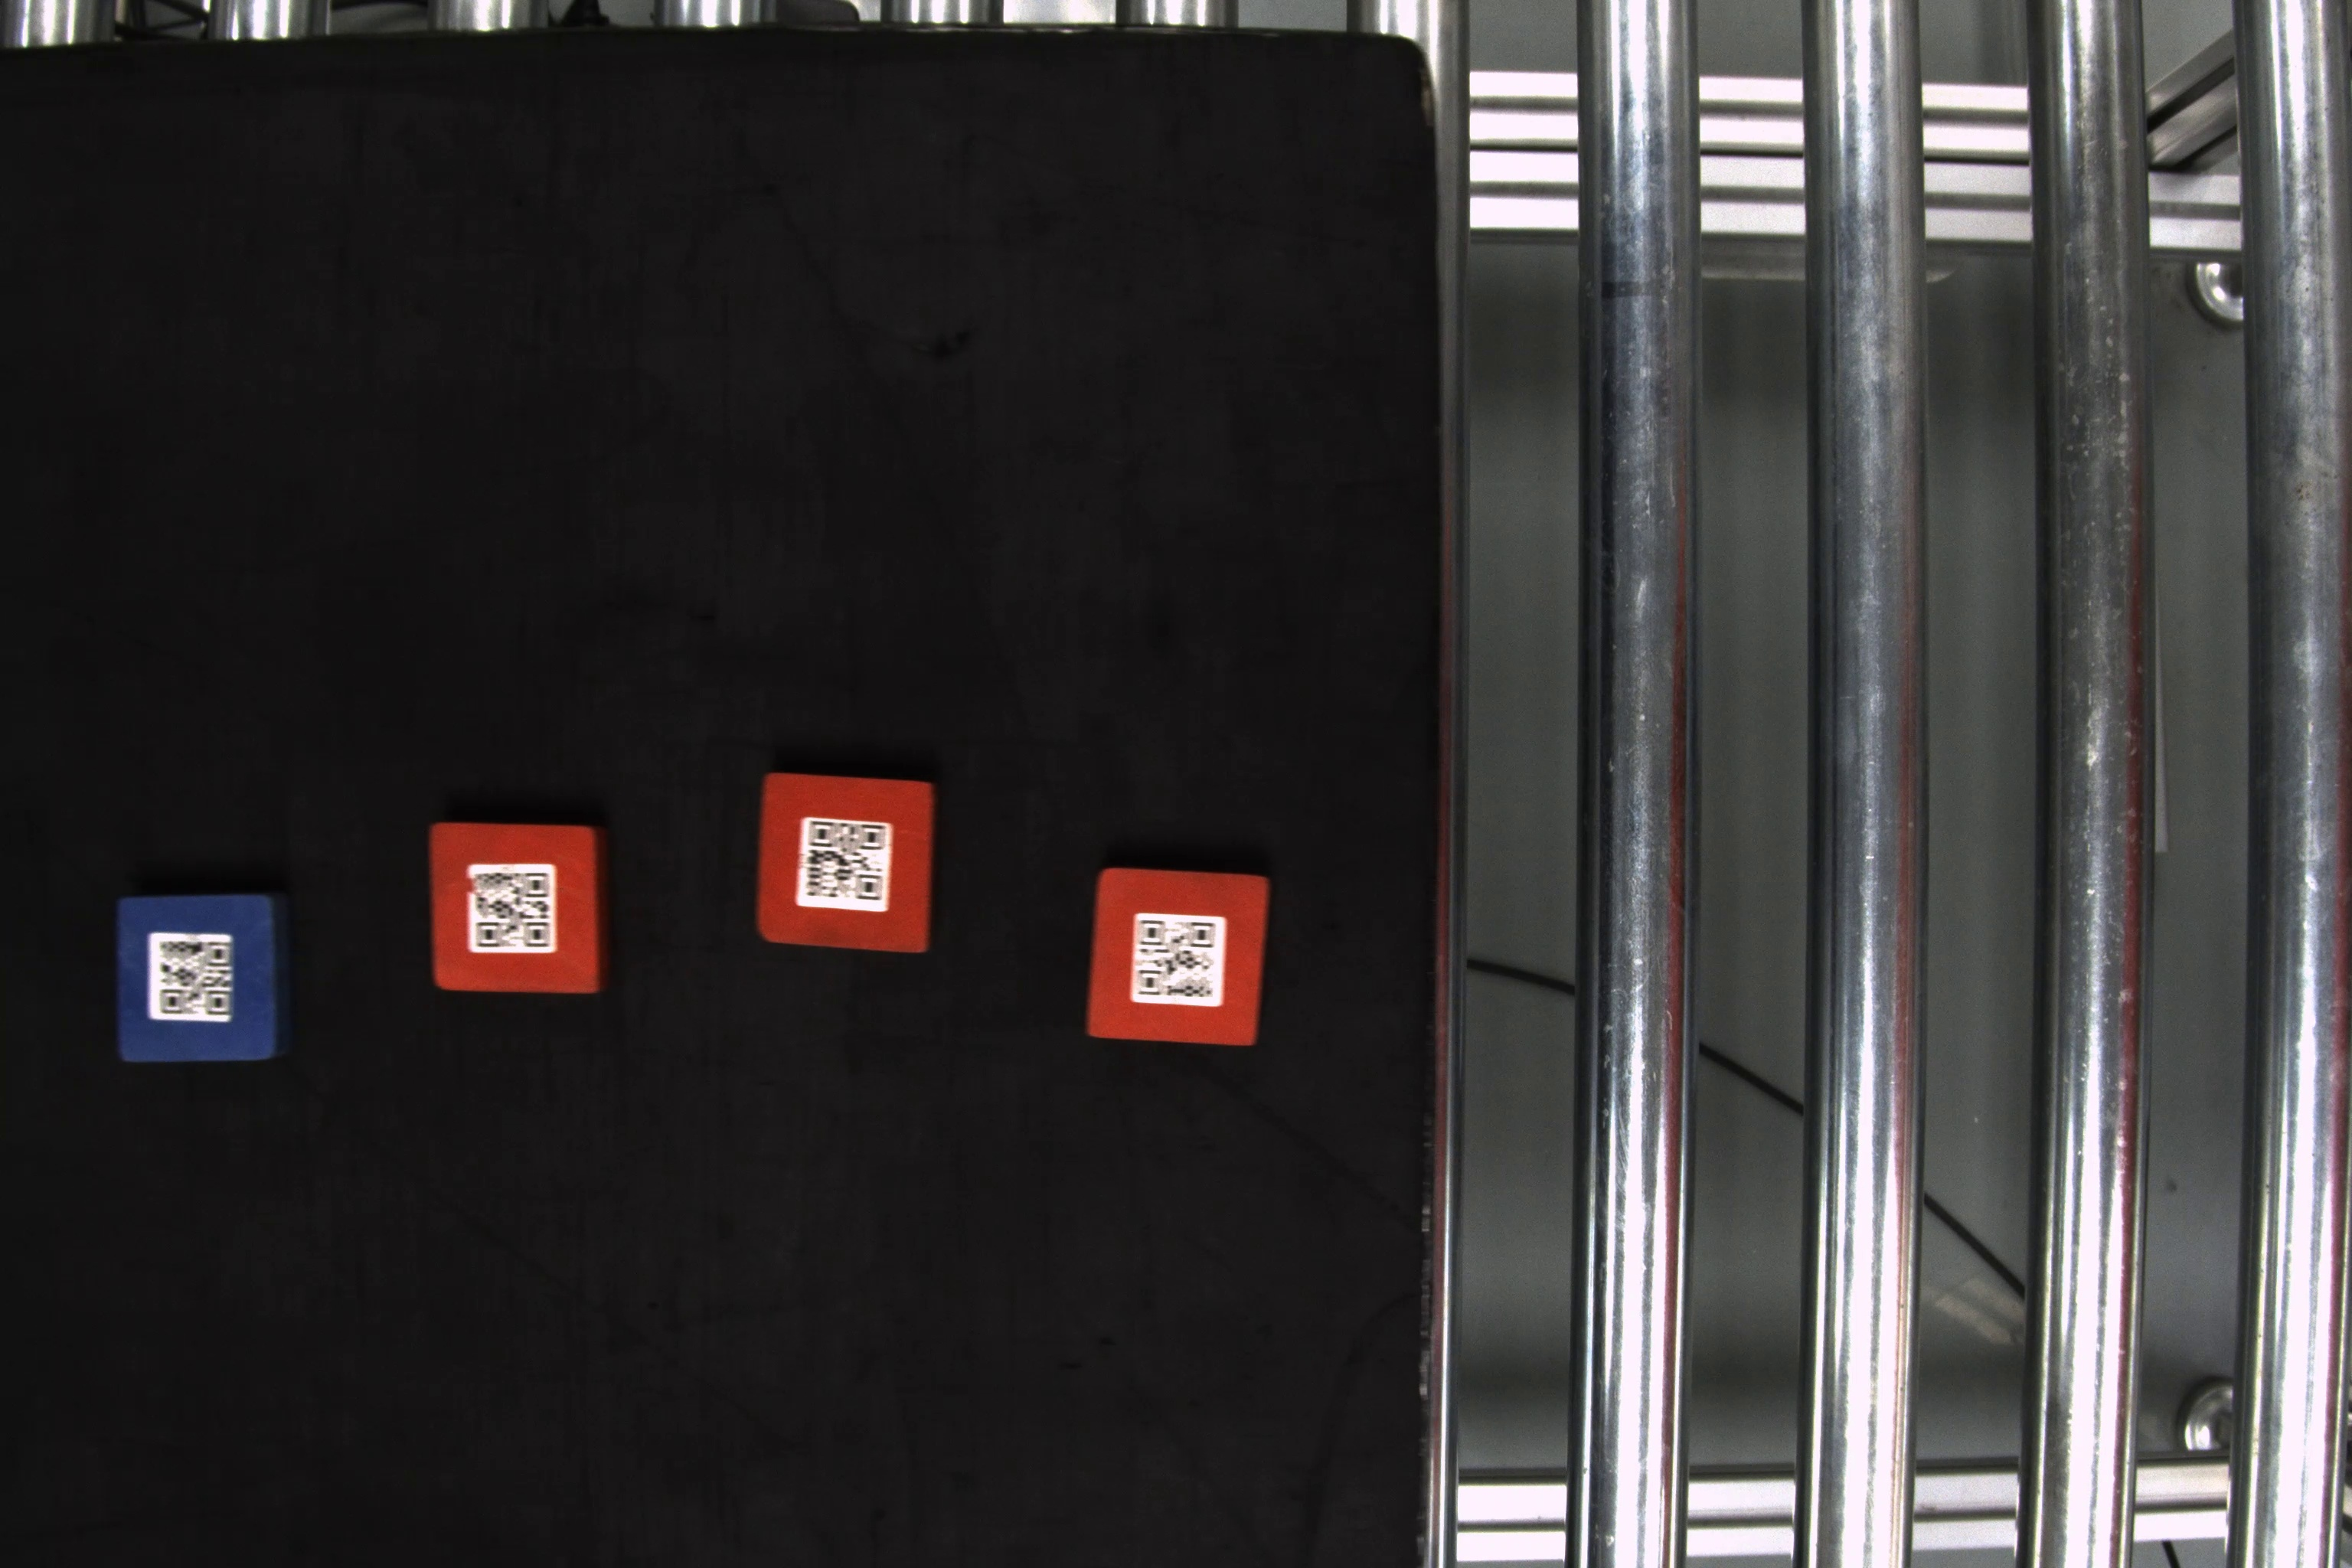wood: (423, 817, 616, 1008), (1092, 857, 1274, 1055), (759, 766, 950, 954), (108, 887, 296, 1071)
